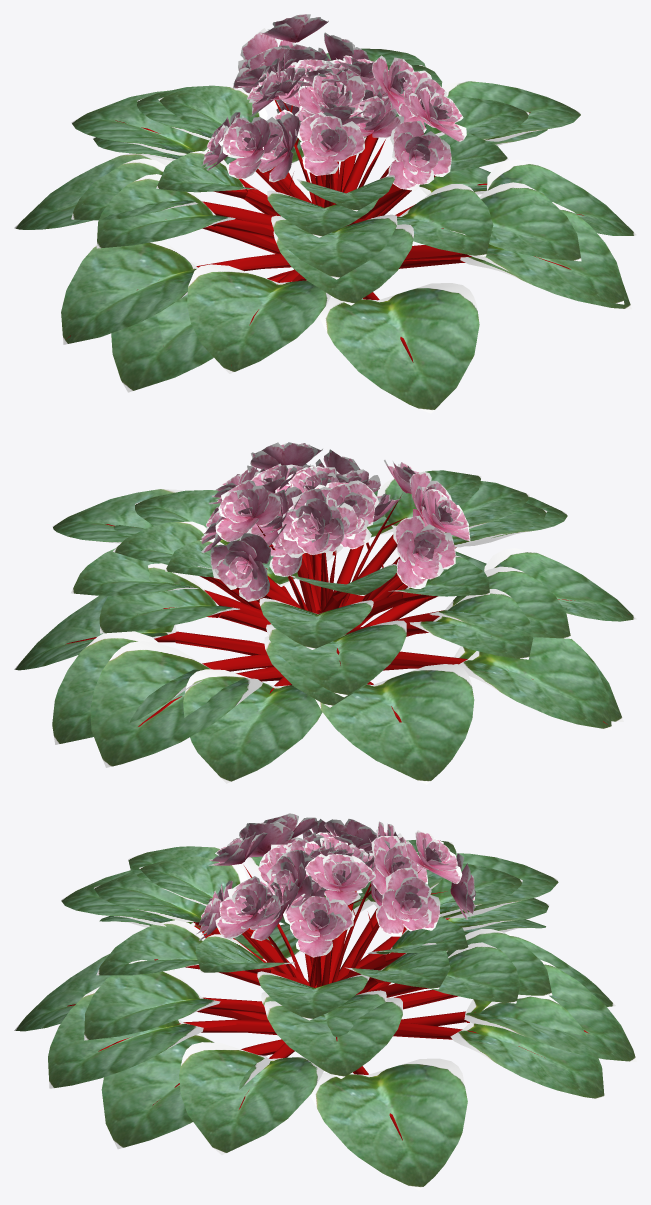
File: Roses.FBX
The picture shows the model from 3 angles, top to bottom: view 1: azimuth 30°, elevation 25°; view 2: azimuth 150°, elevation 25°; view 3: azimuth 270°, elevation 25°; orthographic projection.
Parts seen in each view (by area): view 1: Object028, GrowFX01; view 2: Object028, GrowFX01; view 3: Object028, GrowFX01.
Part boxes in pixels (x1,y1,x2,y2): Object028: [14, 48, 636, 413]; GrowFX01: [66, 14, 583, 365]; Object028: [14, 470, 636, 784]; GrowFX01: [65, 442, 607, 726]; Object028: [14, 840, 636, 1190]; GrowFX01: [67, 813, 588, 1140].
Size of the model in its own units: 6.15 by 2.65 by 6.25.
3 materials, 2 textured.
